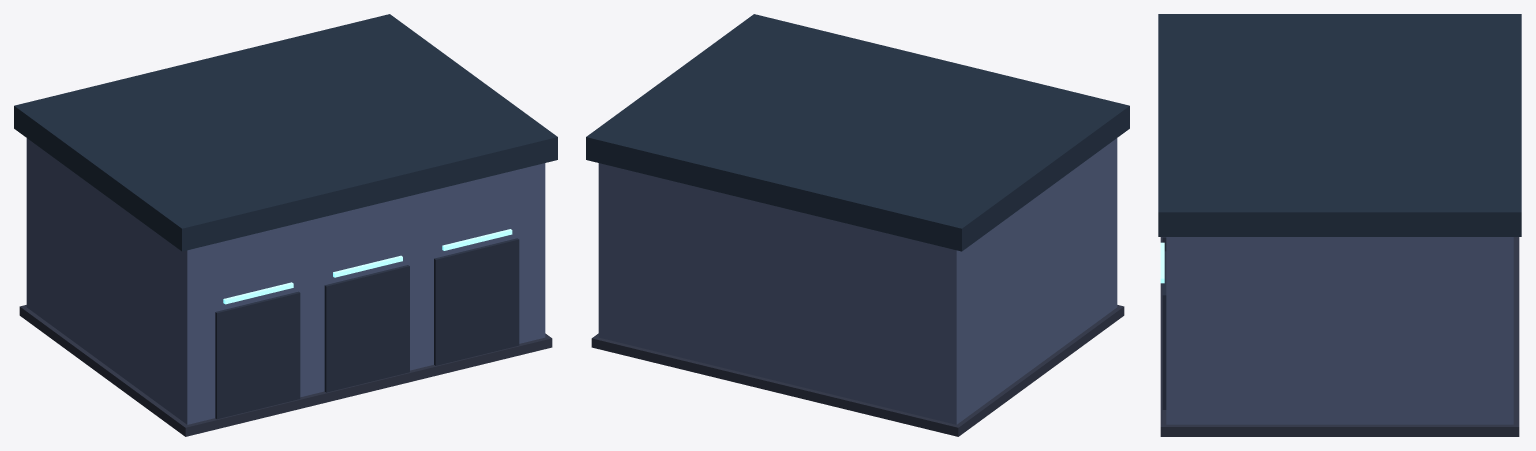
Rendered from service-block.glb.
The picture shows the model from 3 angles, left to right: view 1: azimuth 30°, elevation 25°; view 2: azimuth 150°, elevation 25°; view 3: azimuth 270°, elevation 25°; orthographic projection. The views are drawn at different scales.
Visible parts, largest first — view 1: service-block; view 2: service-block; view 3: service-block.
Part boxes in pixels (x1,y1,x2,y2): service-block: [14, 14, 557, 436]; service-block: [586, 14, 1129, 436]; service-block: [1158, 14, 1521, 436].
Bounding box in the file's own units: 9.45 × 5.05 × 7.32.
